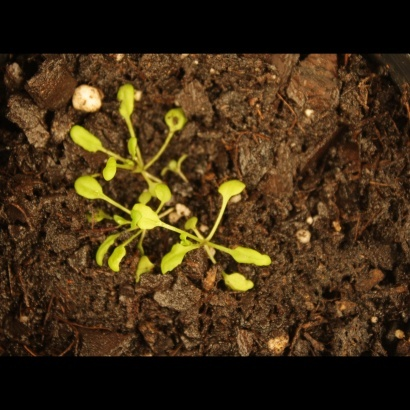leaf: (67, 124, 106, 158), (161, 242, 192, 283), (231, 242, 276, 269), (72, 172, 105, 207), (112, 81, 140, 120), (134, 248, 158, 288), (223, 271, 258, 298), (215, 174, 245, 205), (92, 231, 115, 270), (131, 201, 159, 232), (163, 105, 190, 136), (110, 241, 133, 275), (101, 159, 124, 184), (121, 136, 144, 159), (181, 211, 204, 234), (181, 147, 204, 170), (158, 157, 181, 180), (151, 181, 174, 204)
